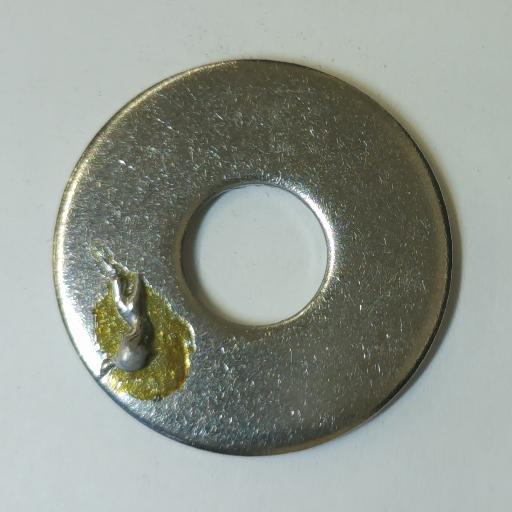excess_material: (100, 274, 158, 379)
